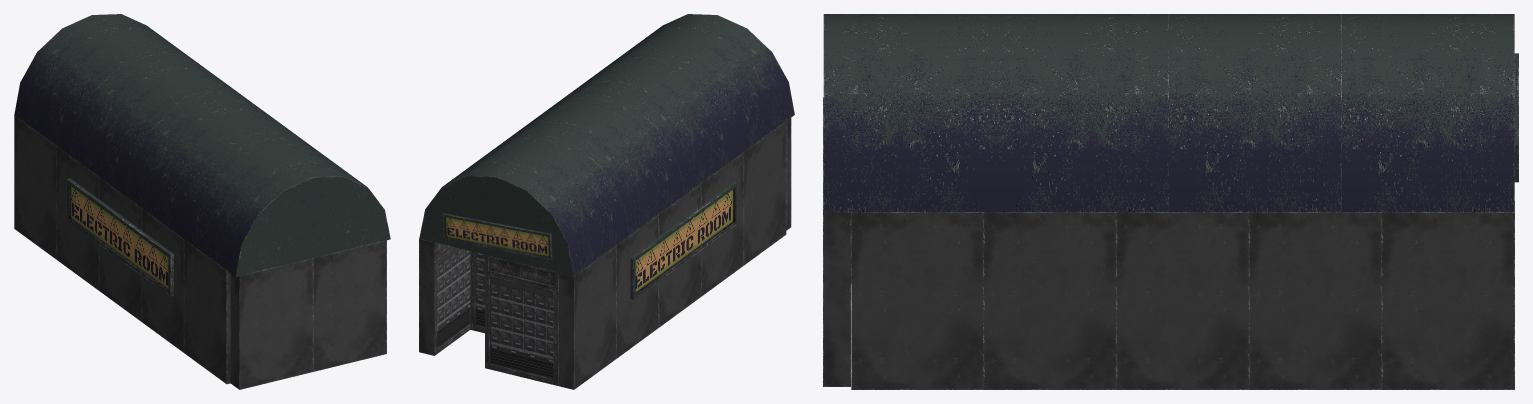
Rendered from SM_Electricroom.glb.
The picture shows the model from 3 angles, left to right: view 1: azimuth 30°, elevation 25°; view 2: azimuth 150°, elevation 25°; view 3: azimuth 270°, elevation 25°; orthographic projection. The views are drawn at different scales.
Visible parts, largest first — view 1: roof, servers, signs; view 2: roof, servers, signs; view 3: roof, servers, signs.
Boxes of the visible parts, box(x1,y1,x2,y2) form: roof: box(14, 14, 390, 276); servers: box(14, 115, 386, 389); signs: box(66, 178, 173, 296); roof: box(419, 14, 794, 276); servers: box(419, 118, 791, 389); signs: box(442, 182, 737, 299); roof: box(823, 14, 1514, 212); servers: box(823, 97, 1514, 389); signs: box(1514, 53, 1518, 182).
Size of the model in its own units: 10.25 by 12 by 24.9.
Materials: 3 (3 with a texture image).
